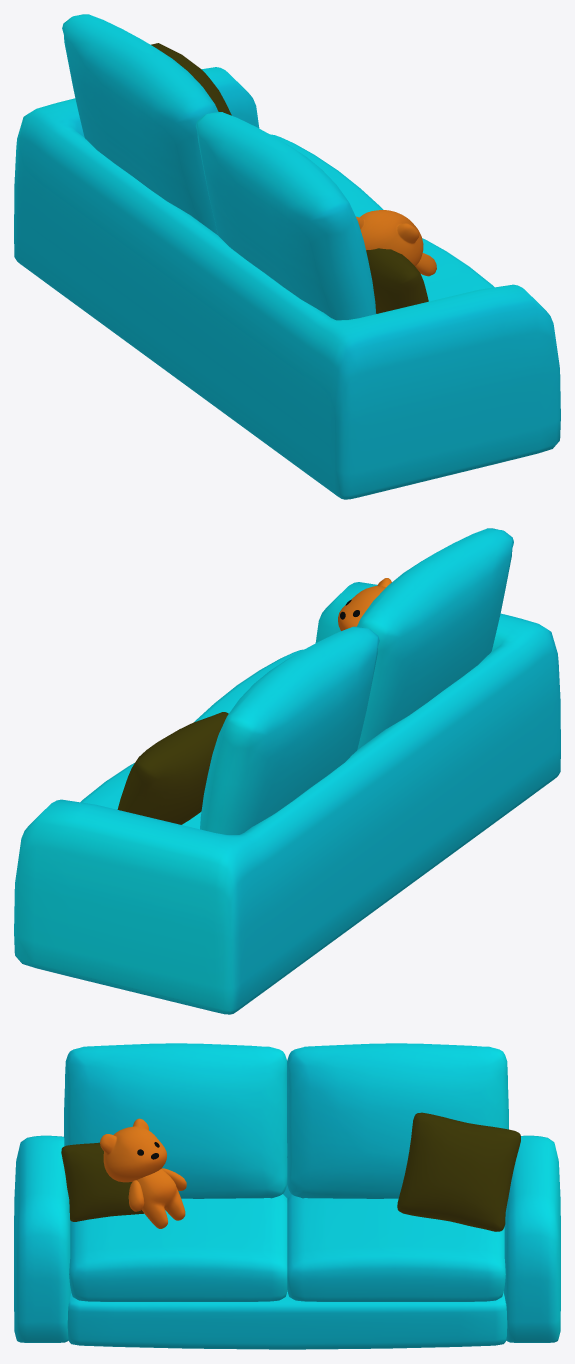
Rendered from sofa.glb.
The picture shows the model from 3 angles, top to bottom: view 1: azimuth 30°, elevation 25°; view 2: azimuth 150°, elevation 25°; view 3: azimuth 270°, elevation 25°; orthographic projection. The views are drawn at different scales.
Parts seen in each view (by area): view 1: room3_sofa; view 2: room3_sofa; view 3: room3_sofa.
Boxes of the visible parts, bbox=[...] form: room3_sofa: bbox=[14, 14, 560, 499]; room3_sofa: bbox=[14, 528, 560, 1014]; room3_sofa: bbox=[14, 1043, 560, 1349].
Size of the model in its own units: 2.23 by 2.55 by 5.54.
1 material, 1 textured.
